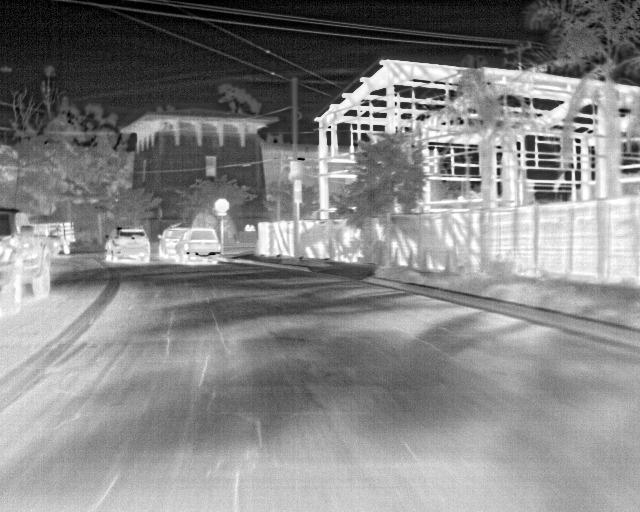car: (0, 206, 59, 306), (105, 227, 151, 262), (177, 228, 222, 263), (158, 224, 184, 259)
